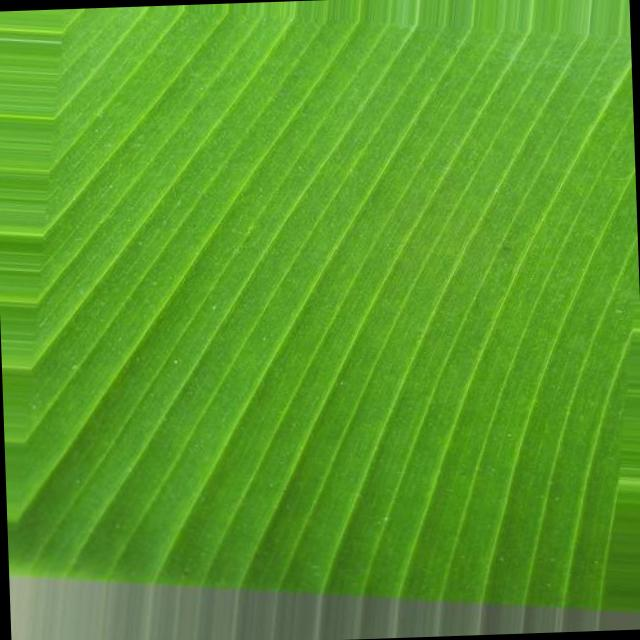Banana_Healthy: (31, 0, 625, 640)
